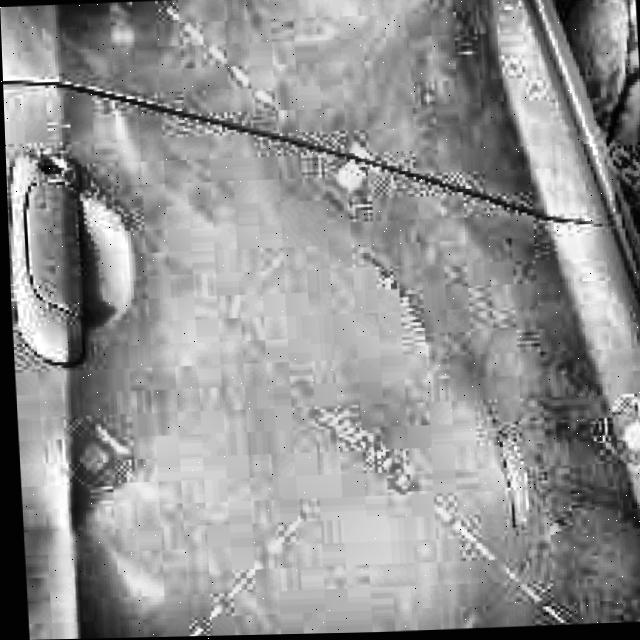door_dent: (86, 325, 544, 604)
